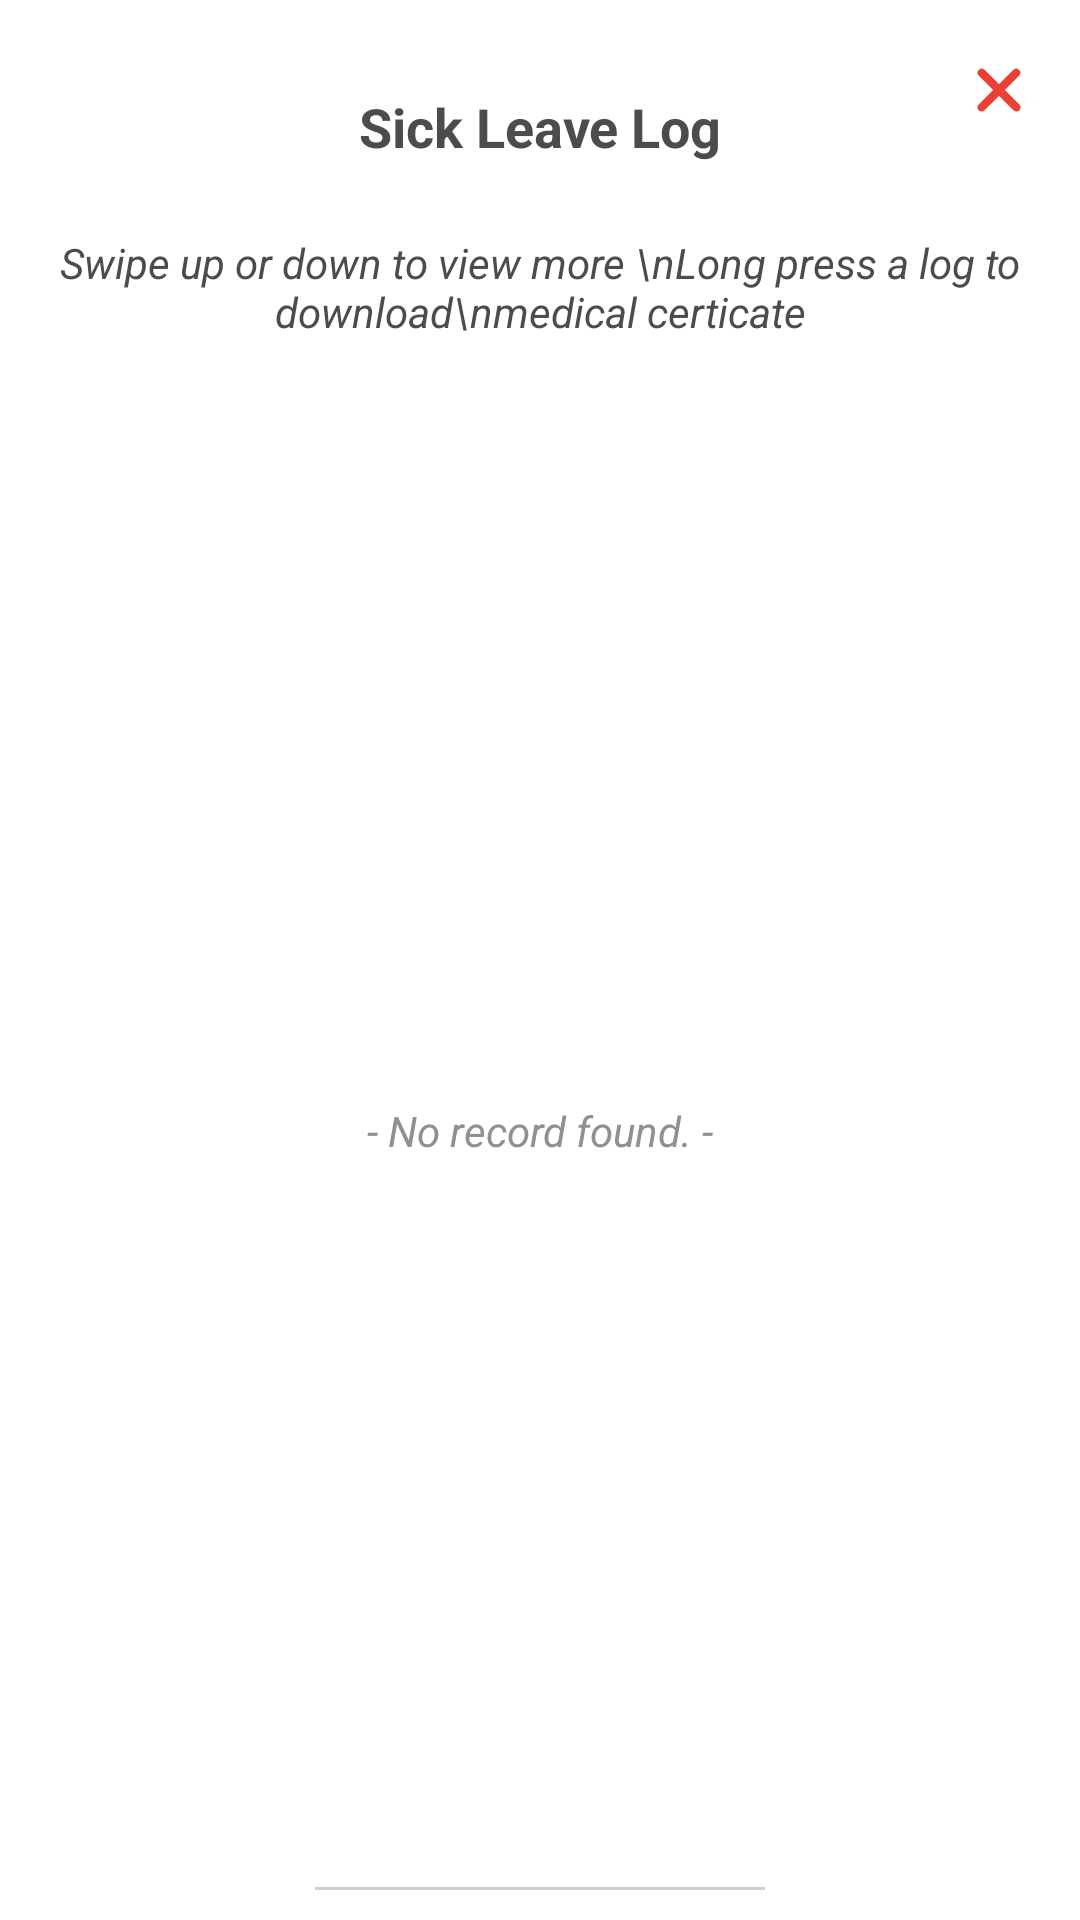

Point at icon controls on the screen. Image size 1080×1920, points as (x,y).
close: (999,90)
